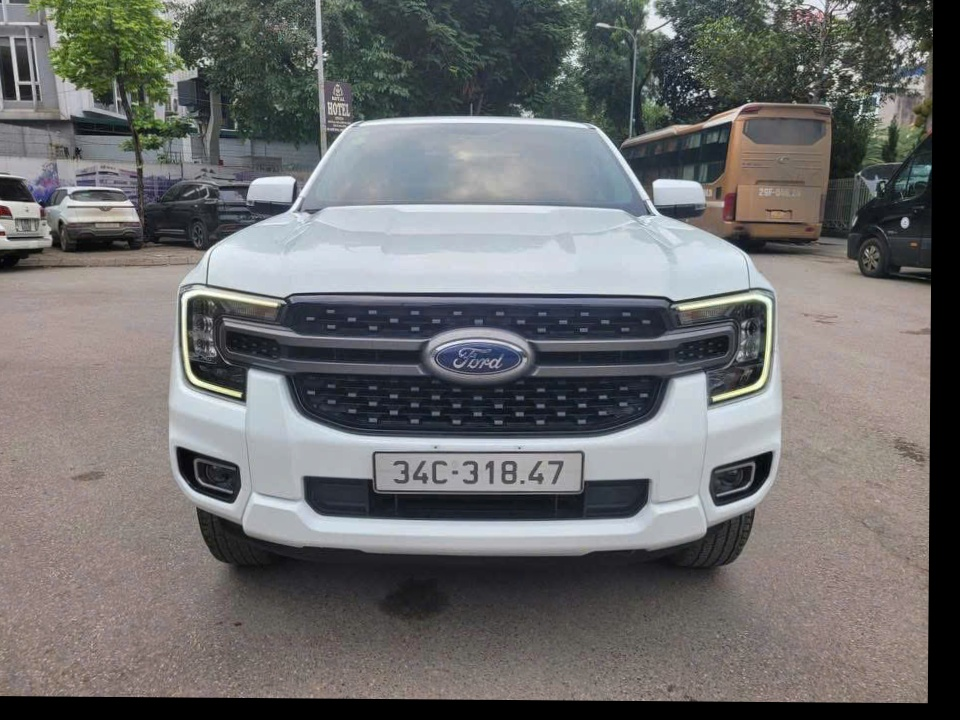Bien-so: (375, 455, 593, 507)
